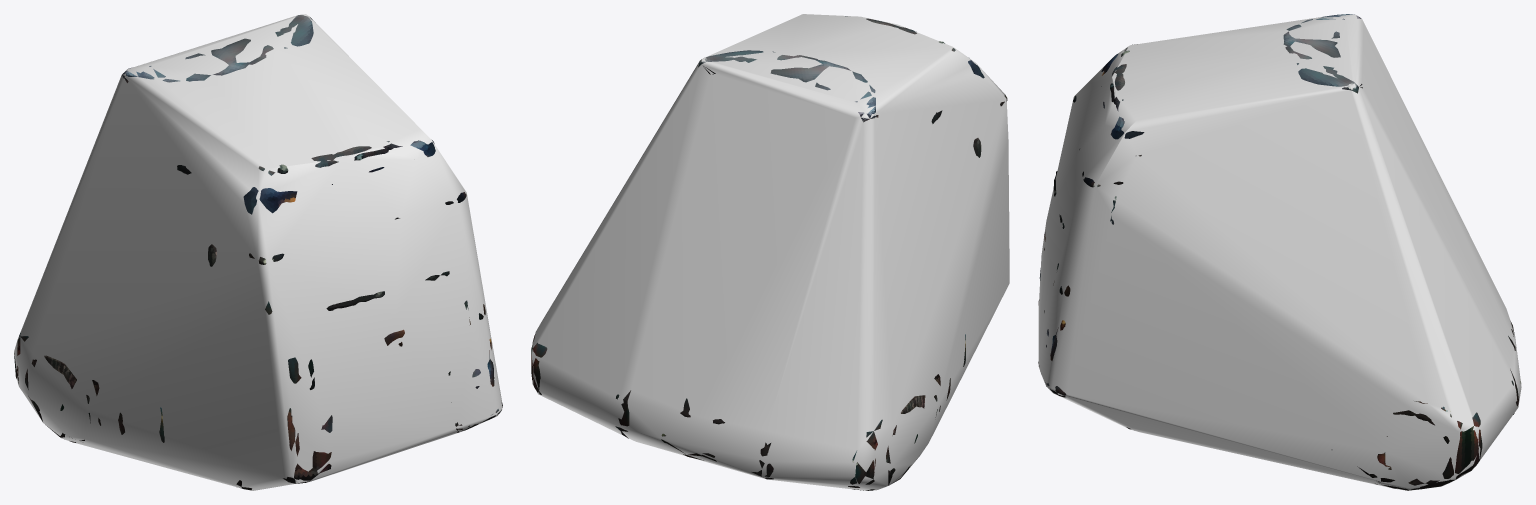
The model's file is improved-prepared.glb.
3 renders of one model, left to right at view 1: azimuth 30°, elevation 25°; view 2: azimuth 150°, elevation 25°; view 3: azimuth 270°, elevation 25°, orthographic. The views are drawn at different scales.
Visible parts, largest first — view 1: COL_Hull, geometry_0_LOD0; view 2: COL_Hull, geometry_0_LOD0; view 3: COL_Hull, geometry_0_LOD0.
Boxes of the visible parts, x1,y1,x2,y2 form: COL_Hull: (14,14,502,490); geometry_0_LOD0: (14,14,502,490); COL_Hull: (532,14,1009,490); geometry_0_LOD0: (531,16,1007,490); COL_Hull: (1038,15,1521,490); geometry_0_LOD0: (1038,14,1521,490).
Size of what is drawn, in the model's own units: 0.8523 by 0.8559 by 1.
Materials: 1 (1 with a texture image).
